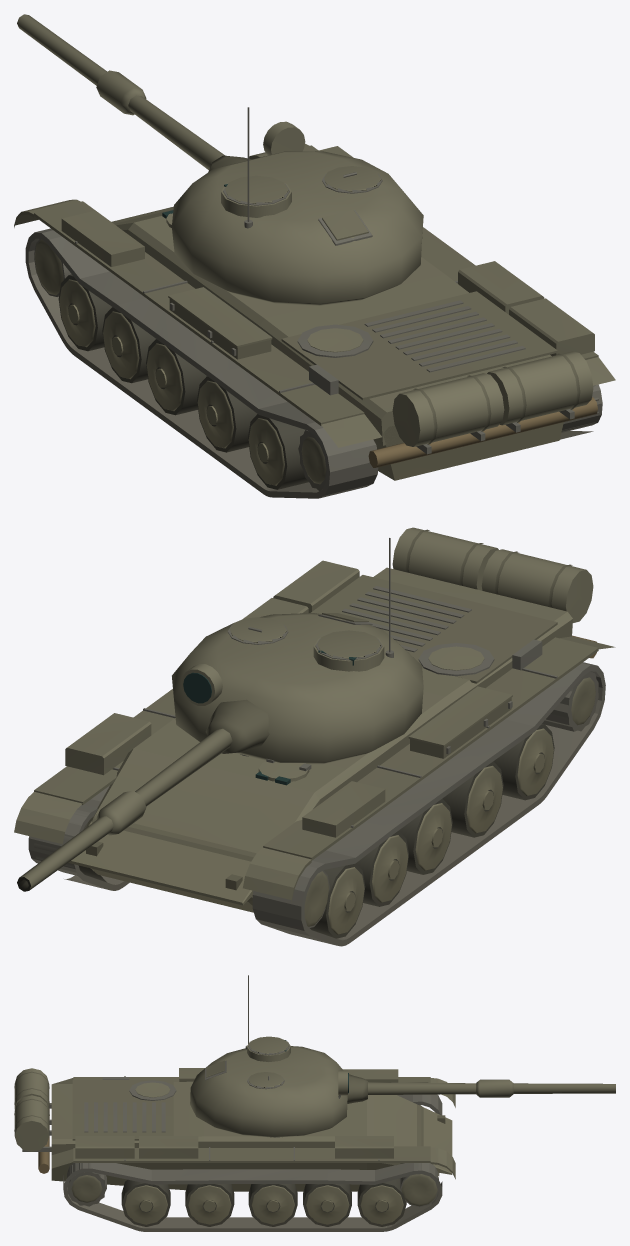
The picture shows the model from 3 angles, top to bottom: view 1: azimuth 30°, elevation 25°; view 2: azimuth 150°, elevation 25°; view 3: azimuth 270°, elevation 25°; orthographic projection. The views are drawn at different scales.
Visible parts, largest first — view 1: Hull_T62_Paint, TurretYaw_T62_Paint, LeftTrack_T62_TrackSteel, LeftTrack_T62_Paint, Hull_T62_TrackSteel, LeftTrack_T62_Rubber, BarrelRecoil_T62_Paint, Hull_T62_Timber, GunPitch_T62_Paint, TurretYaw_T62_TrackSteel, RightTrack_T62_TrackSteel; view 2: Hull_T62_Paint, TurretYaw_T62_Paint, LeftTrack_T62_TrackSteel, LeftTrack_T62_Paint, BarrelRecoil_T62_Paint, LeftTrack_T62_Rubber, Hull_T62_TrackSteel, GunPitch_T62_Paint, RightTrack_T62_TrackSteel, TurretYaw_T62_TrackSteel, GunPitch_T62_Optics; view 3: Hull_T62_Paint, TurretYaw_T62_Paint, RightTrack_T62_TrackSteel, RightTrack_T62_Paint, RightTrack_T62_Rubber, BarrelRecoil_T62_Paint, Hull_T62_TrackSteel, GunPitch_T62_Paint, LeftTrack_T62_TrackSteel, TurretYaw_T62_TrackSteel.
Boxes of the visible parts, bbox=[...] form: Hull_T62_Paint: bbox=[14, 143, 615, 480]; TurretYaw_T62_Paint: bbox=[171, 151, 423, 305]; LeftTrack_T62_TrackSteel: bbox=[25, 228, 378, 498]; LeftTrack_T62_Paint: bbox=[34, 239, 326, 485]; Hull_T62_TrackSteel: bbox=[75, 241, 574, 454]; LeftTrack_T62_Rubber: bbox=[58, 274, 308, 489]; BarrelRecoil_T62_Paint: bbox=[17, 14, 224, 169]; Hull_T62_Timber: bbox=[368, 397, 597, 467]; GunPitch_T62_Paint: bbox=[208, 121, 305, 172]; TurretYaw_T62_TrackSteel: bbox=[223, 107, 382, 245]; RightTrack_T62_TrackSteel: bbox=[560, 384, 602, 439]; Hull_T62_Paint: bbox=[14, 527, 615, 912]; TurretYaw_T62_Paint: bbox=[172, 613, 423, 764]; LeftTrack_T62_TrackSteel: bbox=[252, 662, 605, 946]; LeftTrack_T62_Paint: bbox=[304, 677, 595, 934]; BarrelRecoil_T62_Paint: bbox=[17, 728, 232, 891]; LeftTrack_T62_Rubber: bbox=[310, 723, 554, 938]; Hull_T62_TrackSteel: bbox=[112, 586, 557, 827]; GunPitch_T62_Paint: bbox=[180, 664, 269, 753]; RightTrack_T62_TrackSteel: bbox=[28, 785, 129, 890]; TurretYaw_T62_TrackSteel: bbox=[227, 538, 393, 756]; GunPitch_T62_Optics: bbox=[183, 672, 211, 703]; Hull_T62_Paint: bbox=[14, 1068, 455, 1191]; TurretYaw_T62_Paint: bbox=[190, 1036, 347, 1137]; RightTrack_T62_TrackSteel: bbox=[63, 1163, 442, 1231]; RightTrack_T62_Paint: bbox=[71, 1174, 437, 1224]; RightTrack_T62_Rubber: bbox=[121, 1178, 406, 1226]; BarrelRecoil_T62_Paint: bbox=[368, 1079, 615, 1097]; Hull_T62_TrackSteel: bbox=[22, 1076, 379, 1160]; GunPitch_T62_Paint: bbox=[338, 1070, 367, 1103]; LeftTrack_T62_TrackSteel: bbox=[397, 1094, 442, 1115]; TurretYaw_T62_TrackSteel: bbox=[205, 975, 289, 1137].
Bounding box in the file's own units: 3.31 × 3.53 × 9.96.
